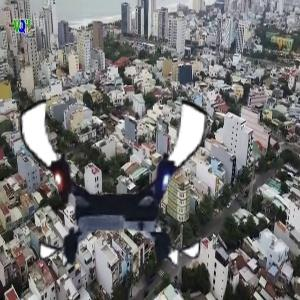drone: (15, 84, 209, 278)
